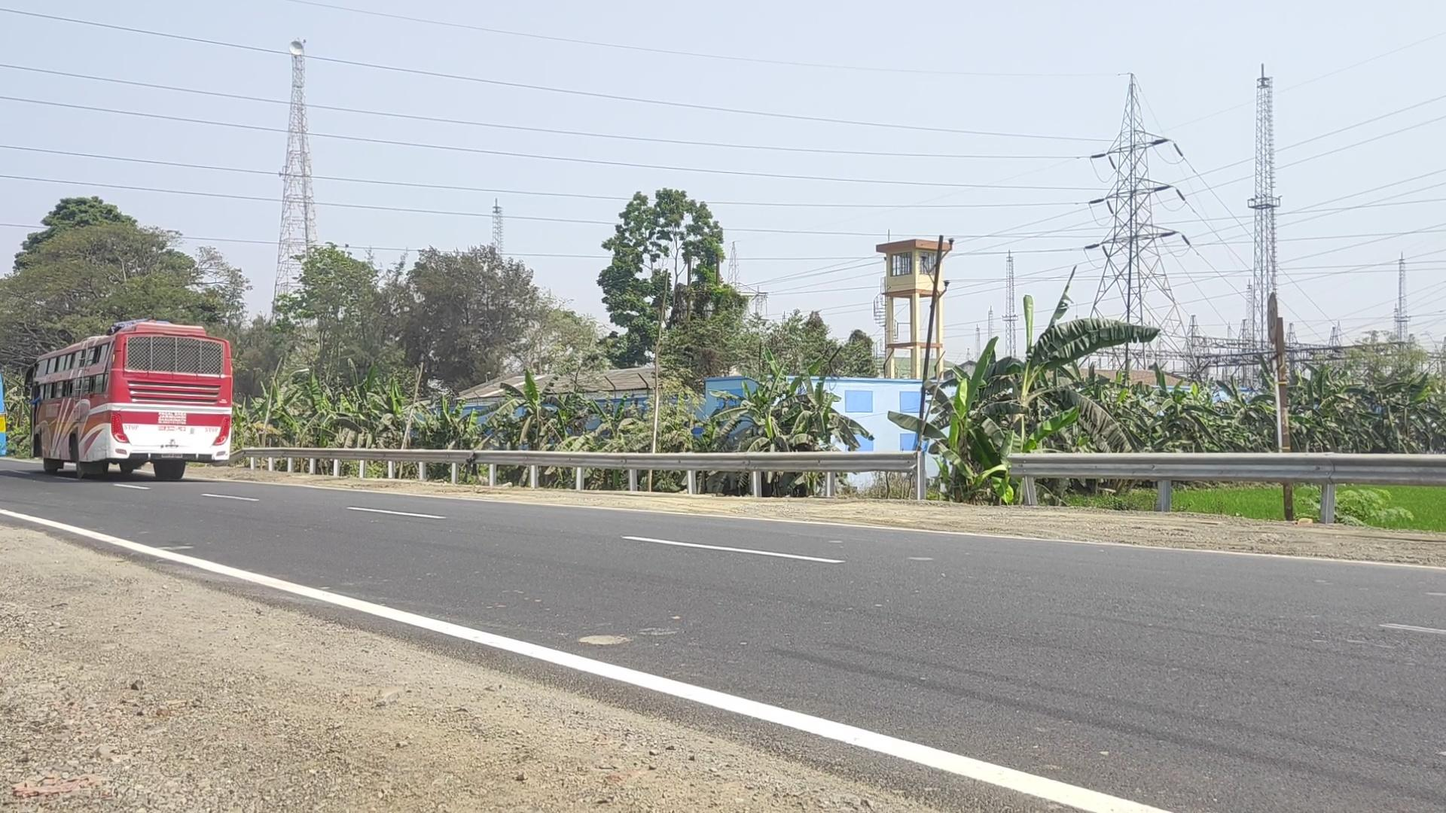Bus: (26, 322, 233, 481)
